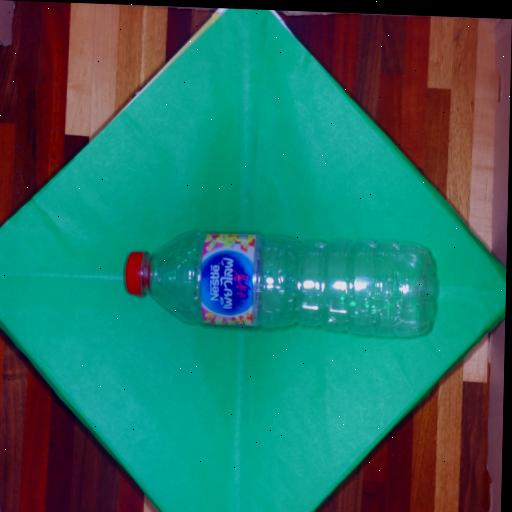bottle: (126, 232, 434, 336)
